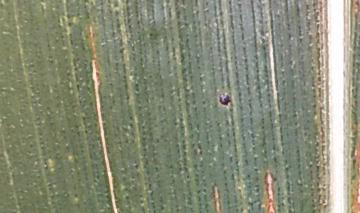tarspot: (216, 91, 233, 109)
